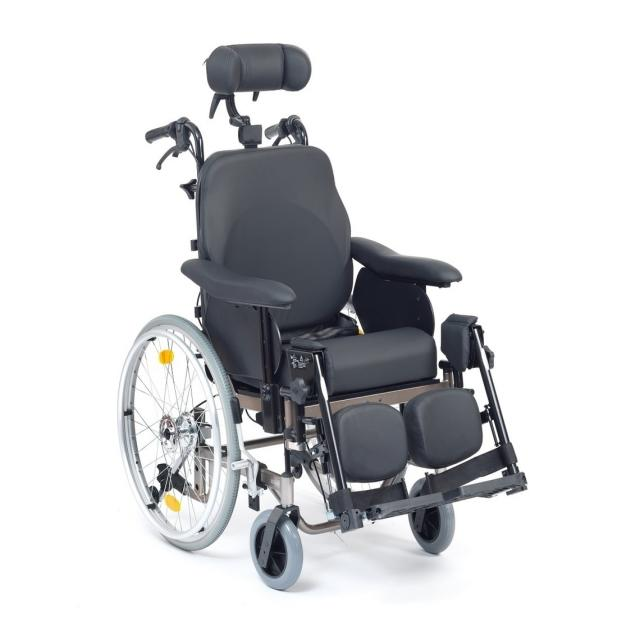wheelchair: (105, 26, 543, 607)
